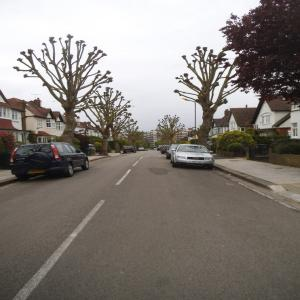Vehicle-registration-plate: (27, 171, 46, 175), (190, 162, 203, 165)
